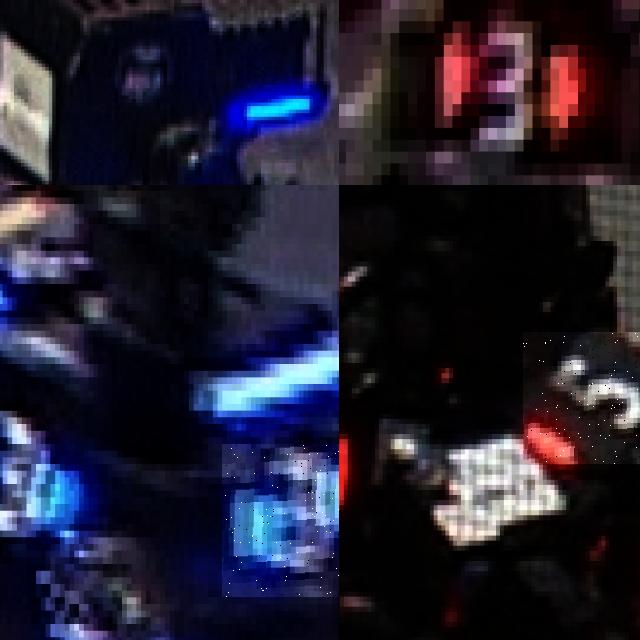B3: (222, 443, 339, 597), (0, 404, 79, 564)
R3: (417, 10, 577, 164)
R5: (523, 332, 640, 464)
